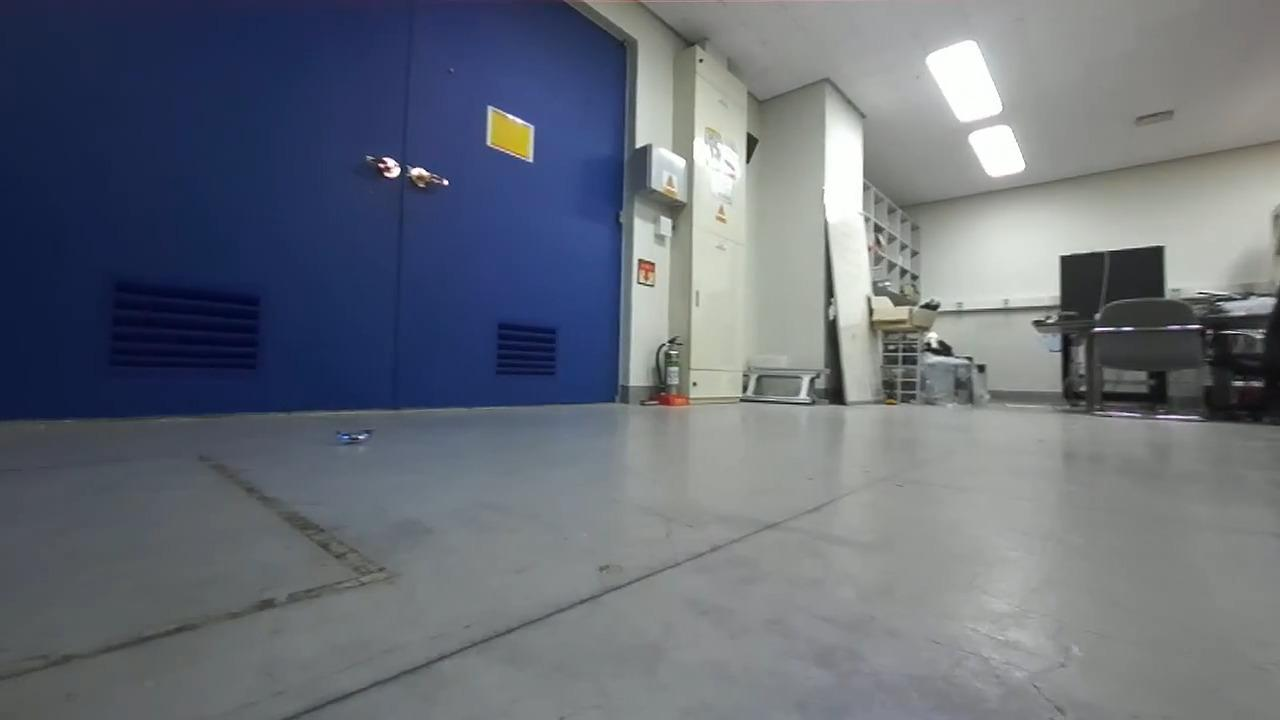crazyflie: (323, 418, 381, 455)
